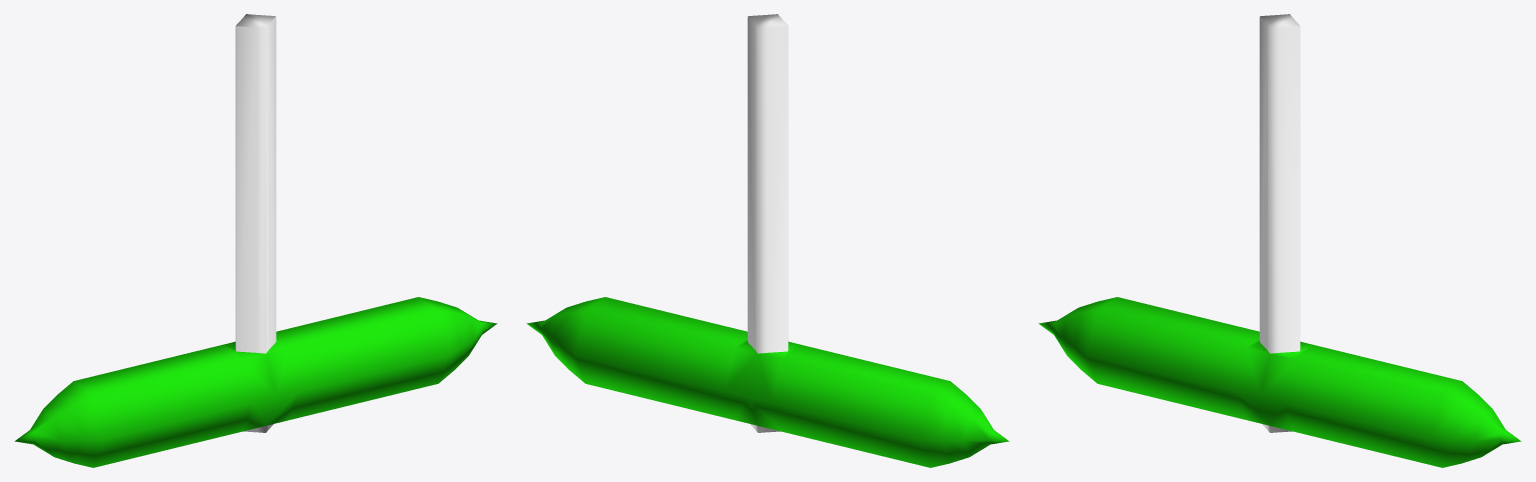
File: Rod.fbx
3 views of the same model, side by side, from view 1: azimuth 30°, elevation 25°; view 2: azimuth 150°, elevation 25°; view 3: azimuth 330°, elevation 25° (orthographic).
Visible parts, largest first — view 1: Rod; view 2: Rod; view 3: Rod.
Boxes of the visible parts, <box> form: Rod: <box>14,14,497,467</box>; Rod: <box>526,14,1009,467</box>; Rod: <box>1038,14,1521,467</box>.
Bounding box in the file's own units: 1400 × 200 × 1120.
